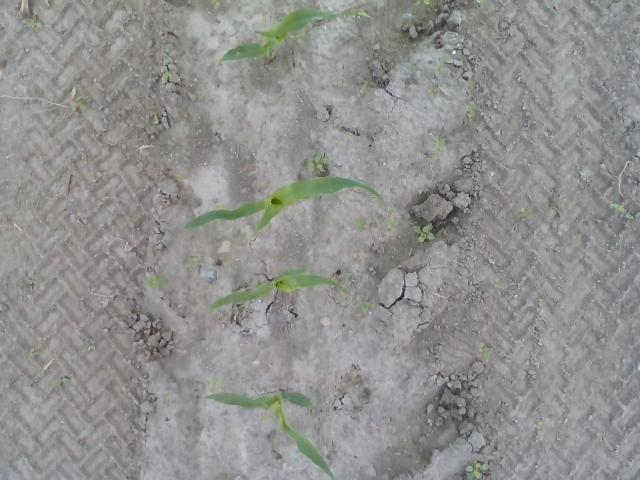Maize: (206, 389, 336, 480), (183, 176, 384, 234), (220, 4, 374, 64), (206, 266, 370, 315)
Weeds: (304, 152, 329, 173), (412, 222, 436, 243), (464, 461, 489, 480), (68, 94, 89, 111), (146, 273, 164, 290), (352, 215, 368, 234), (478, 340, 492, 361), (384, 220, 398, 236), (208, 378, 225, 391), (294, 28, 306, 46), (51, 376, 70, 386), (413, 0, 434, 9), (184, 255, 198, 268), (608, 202, 626, 212), (466, 106, 476, 121), (30, 20, 42, 29), (433, 137, 447, 144), (163, 70, 171, 81)
